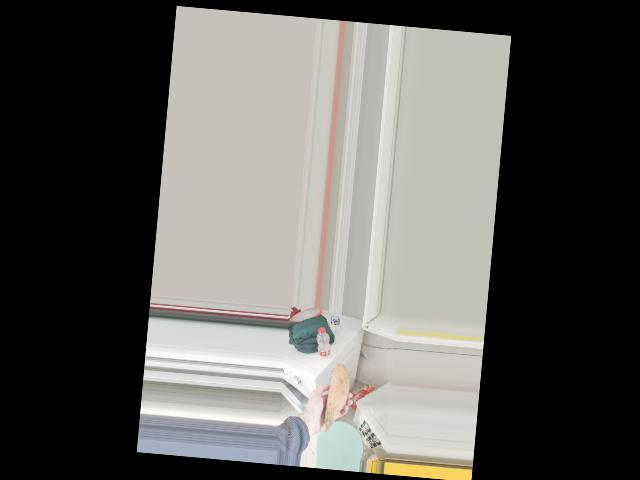sweet_potato: (327, 366, 353, 441)
